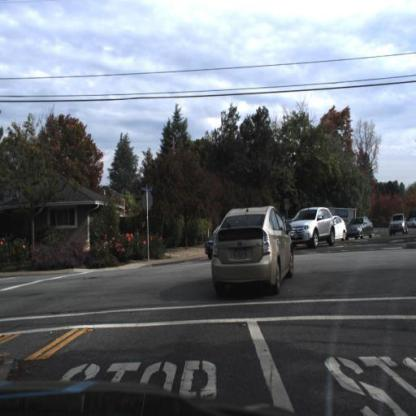car: (214, 201, 297, 301), (290, 204, 335, 251), (346, 216, 376, 239), (331, 213, 350, 246), (390, 211, 408, 235)
